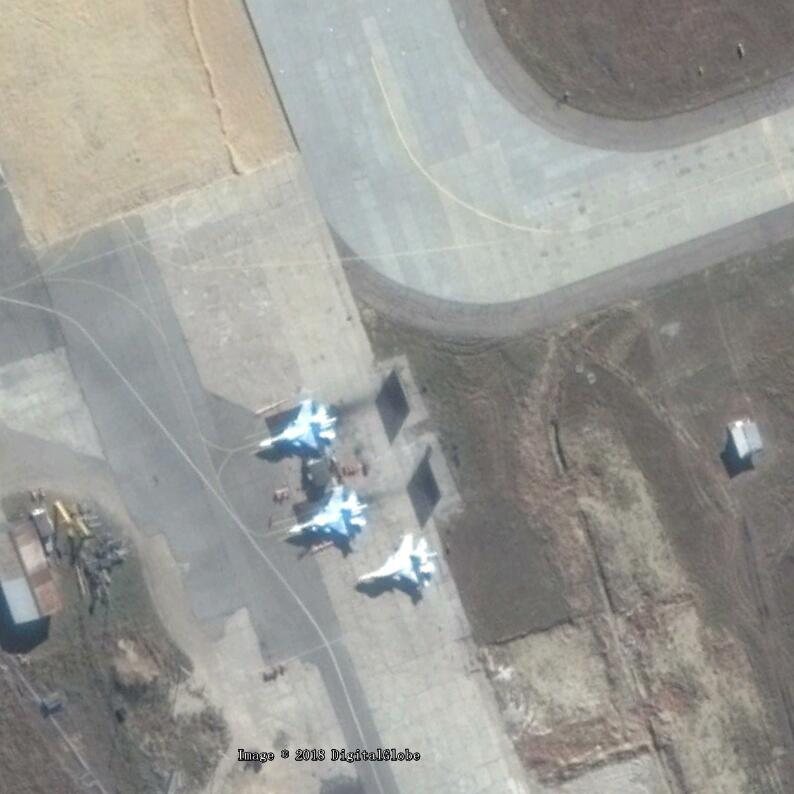A19: (287, 479, 370, 542), (258, 395, 339, 459), (357, 533, 440, 594)
